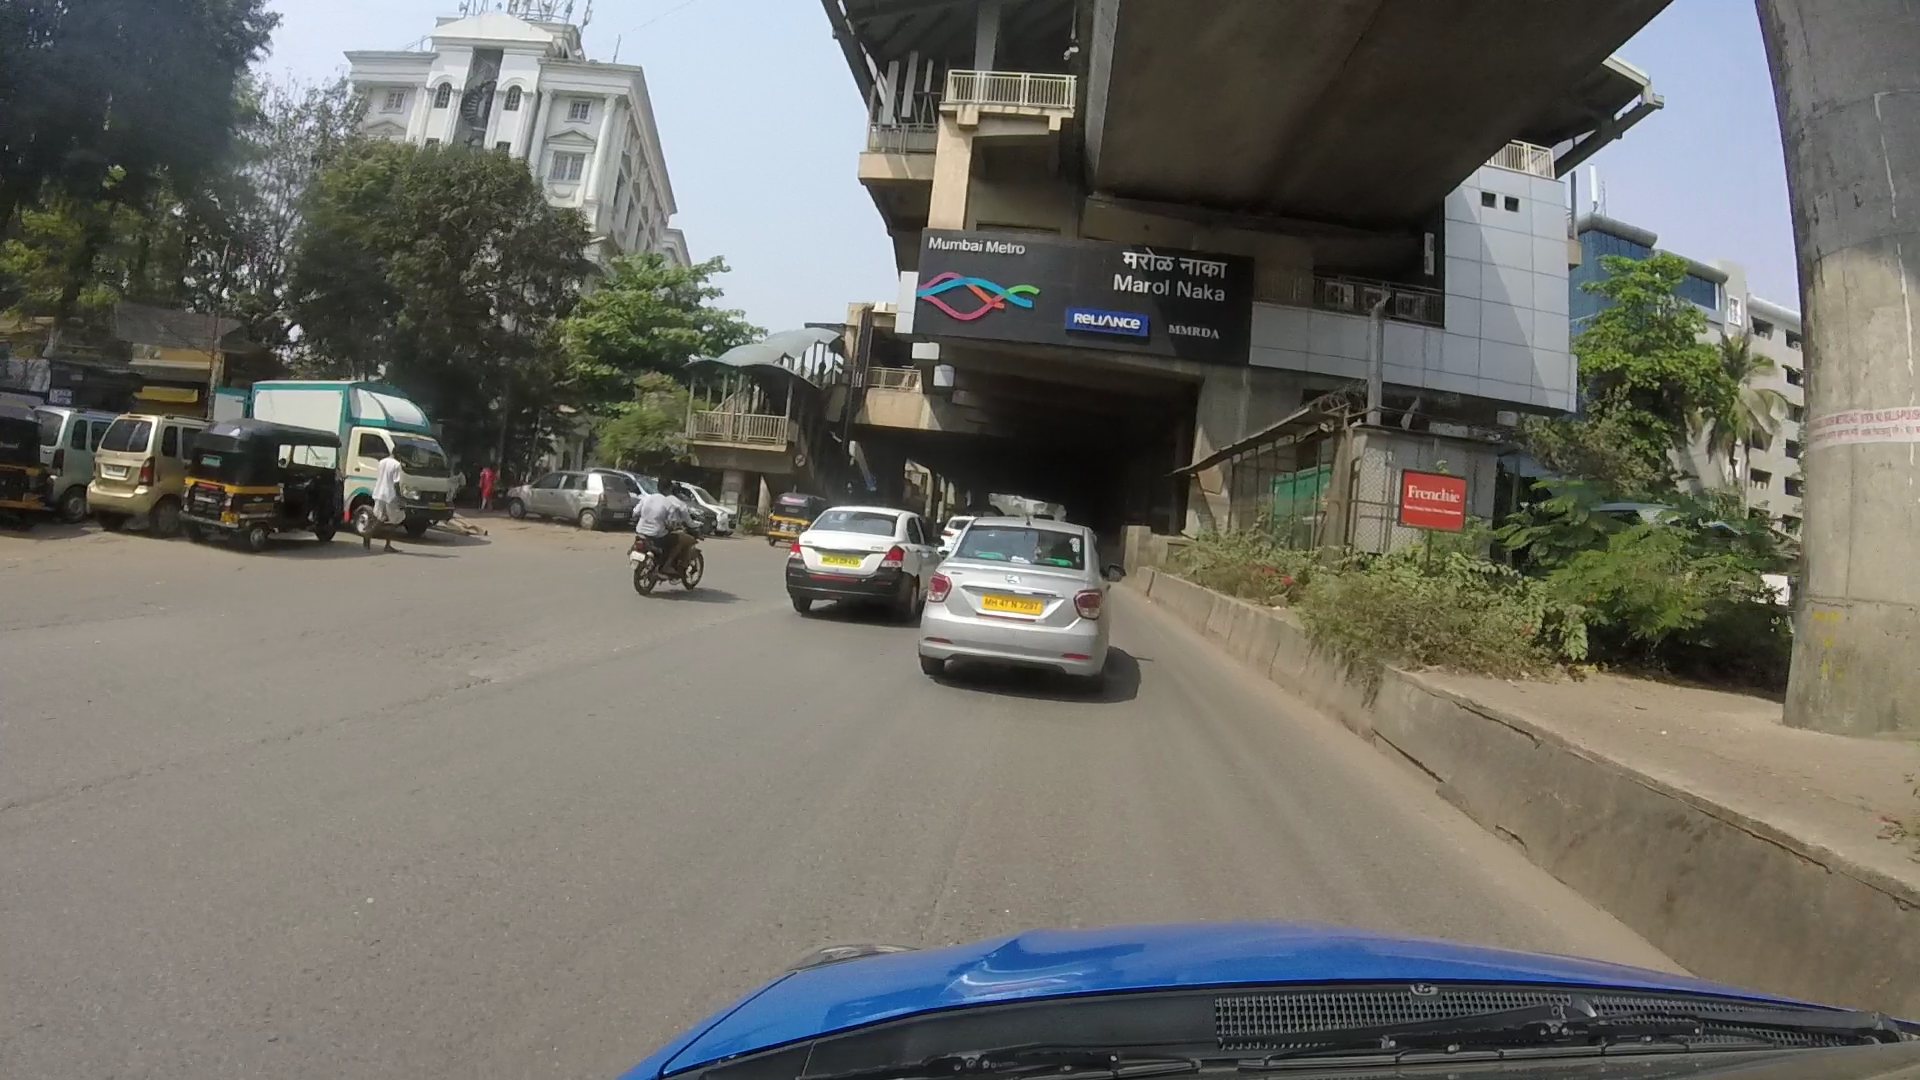bike/scooter: (618, 483, 711, 607)
car: (928, 516, 1116, 680), (787, 489, 905, 611)
rickshaw: (187, 419, 361, 551)
truck: (243, 375, 458, 530)
